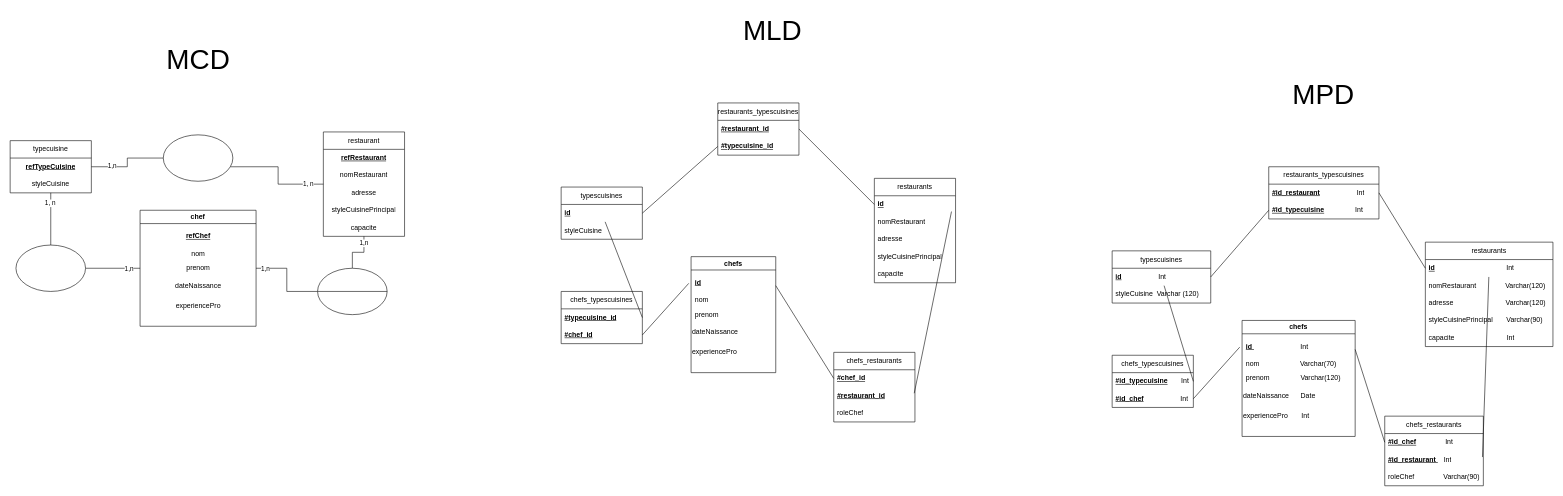
Image size: 1563x496. Some labels were removed from this diagram. Each missing label, with the centre of its shape:
"Avoir" belongs at (50,267).
"Possède" belongs at (198,157).
"Travailler roleChef" belongs at (352,291).
